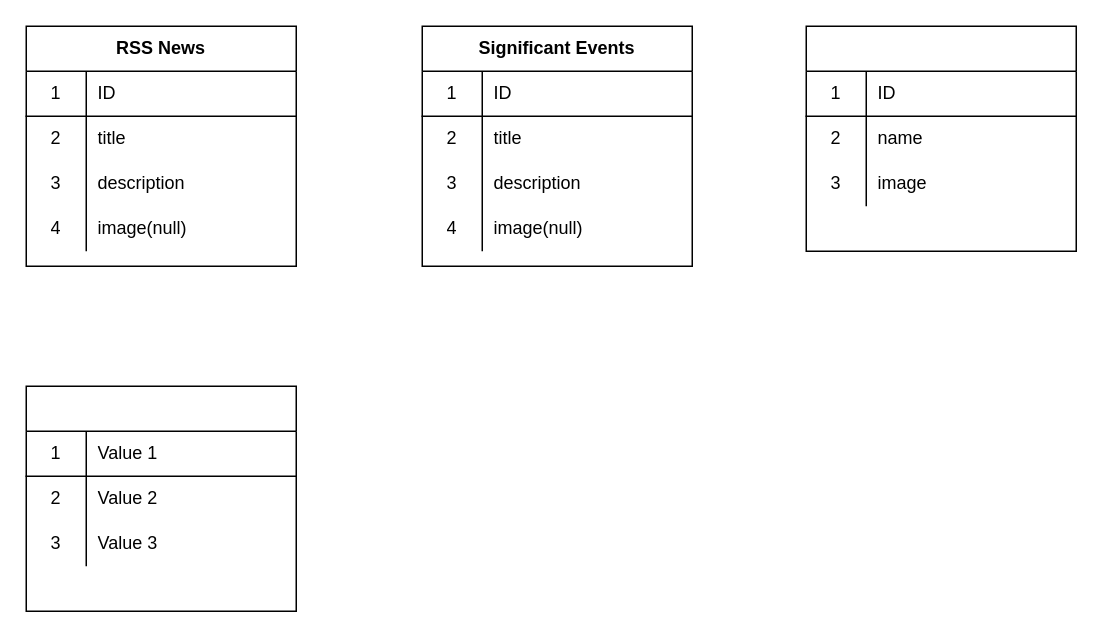
The diagram is 1103 pixels wide and 638 high, and some of its shapes have lost their labels. Each missing label, with the box of its shape:
Sponsors: (805, 25, 1076, 251)
Table: (25, 385, 296, 611)
